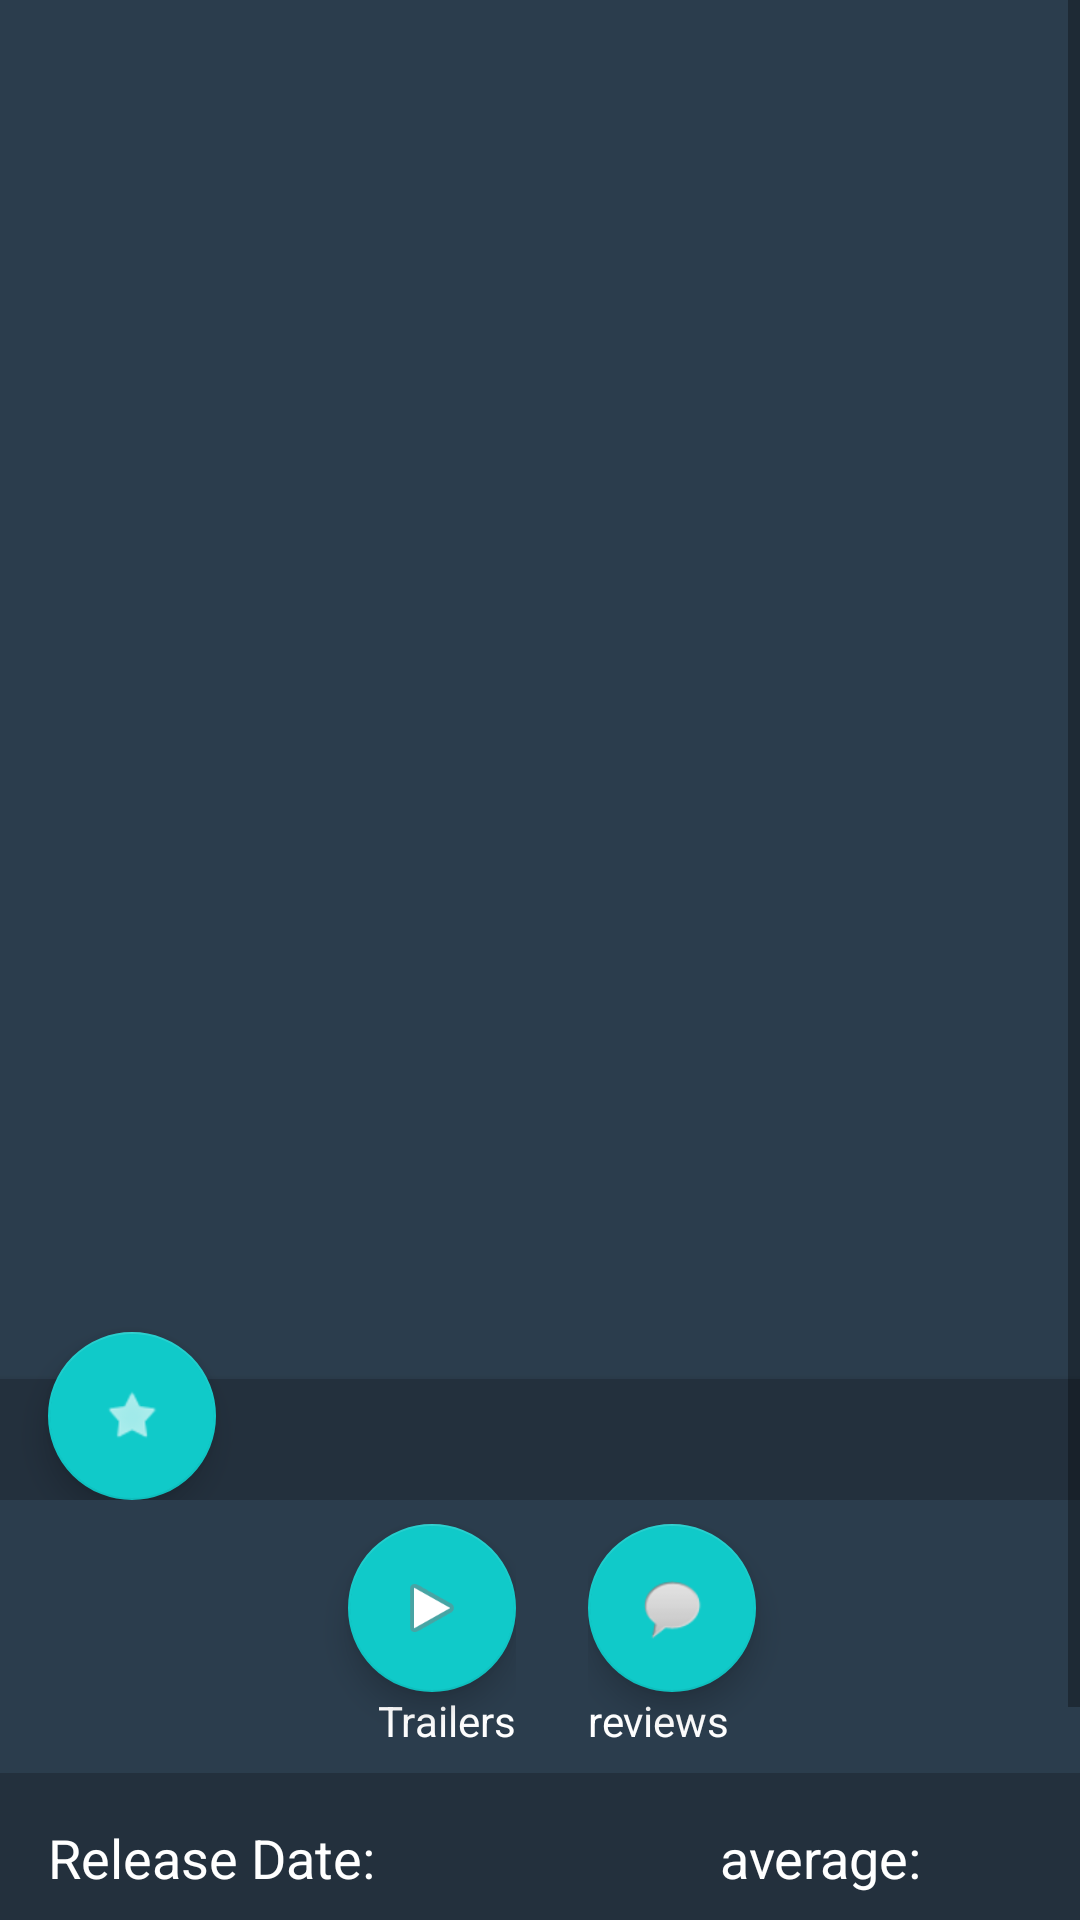

Named icons in this screenshot (1080w x 1920h) and their centers, [x,y]:
play: [432,1608]
star off: [132,1416]
sym action chat: [672,1608]
